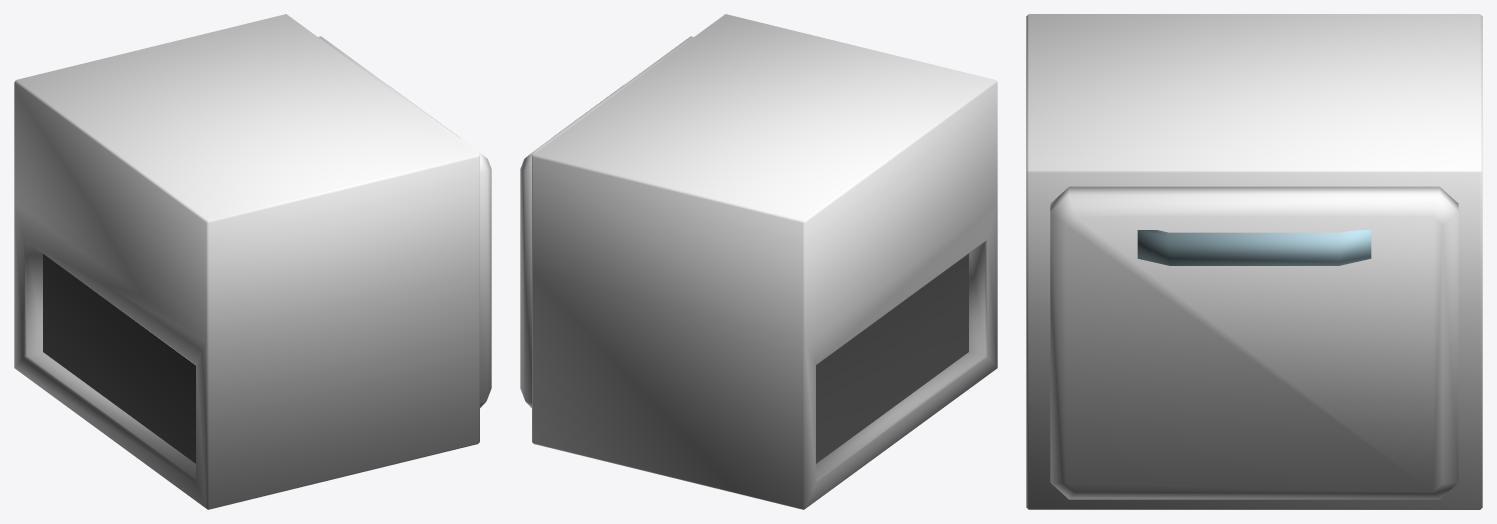
File: Dishwasher.fbx
3 renders of one model, left to right at view 1: azimuth 30°, elevation 25°; view 2: azimuth 150°, elevation 25°; view 3: azimuth 270°, elevation 25°, orthographic. The views are drawn at different scales.
Parts seen in each view (by area): view 1: Dishwasher; view 2: Dishwasher; view 3: Dishwasher.
Part boxes in pixels (<box>): Dishwasher: <box>14,14,491,509</box>; Dishwasher: <box>520,14,997,509</box>; Dishwasher: <box>1026,14,1482,509</box>.
Size of the model in its own units: 113 by 99.24 by 120.
Materials: 1 (1 with a texture image).
